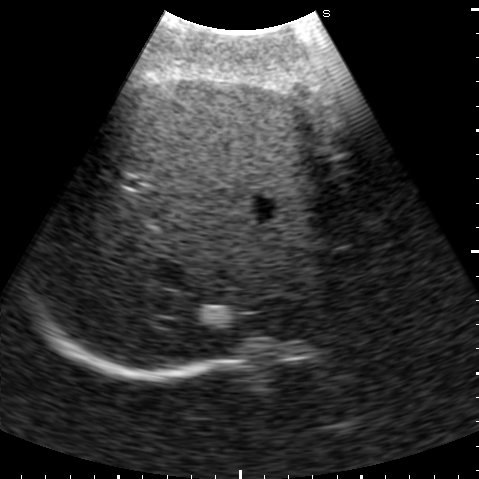S5: (113, 81, 324, 189)
S7: (38, 167, 165, 310)
S8: (89, 159, 376, 367)
Tumor: (199, 304, 235, 327)
